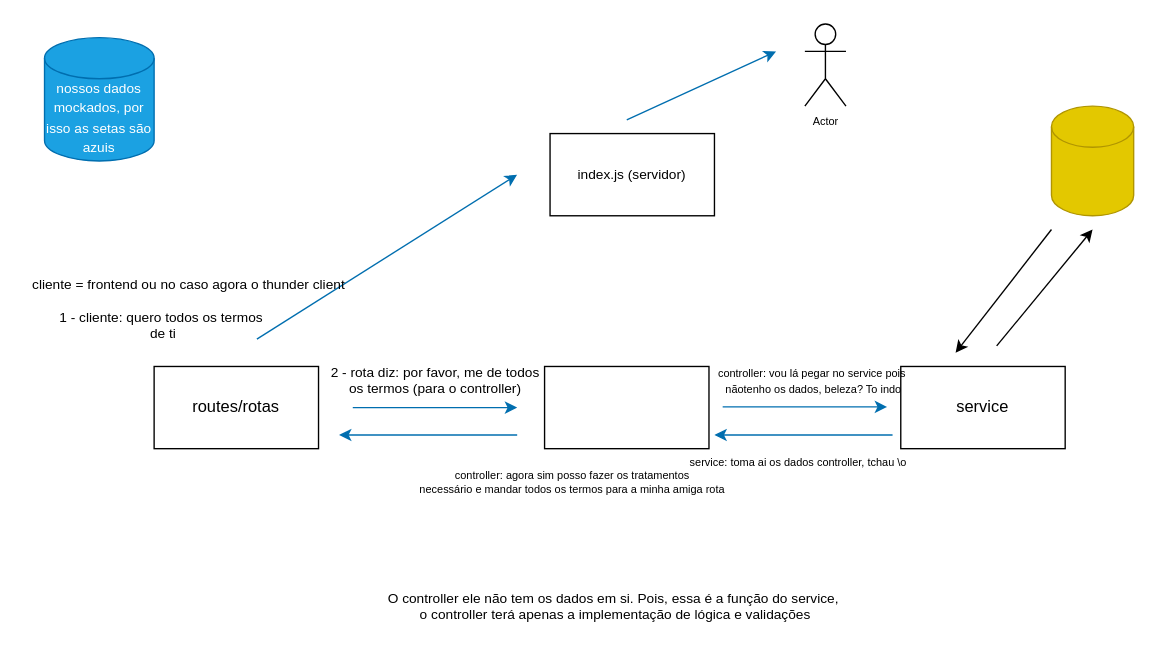
Image size: 1158x651. Some labels were removed from this diagram. The centre of each missing label's shape, as x and y in pixels:
controllers: the point at 626,407
data base: the point at 1092,160
